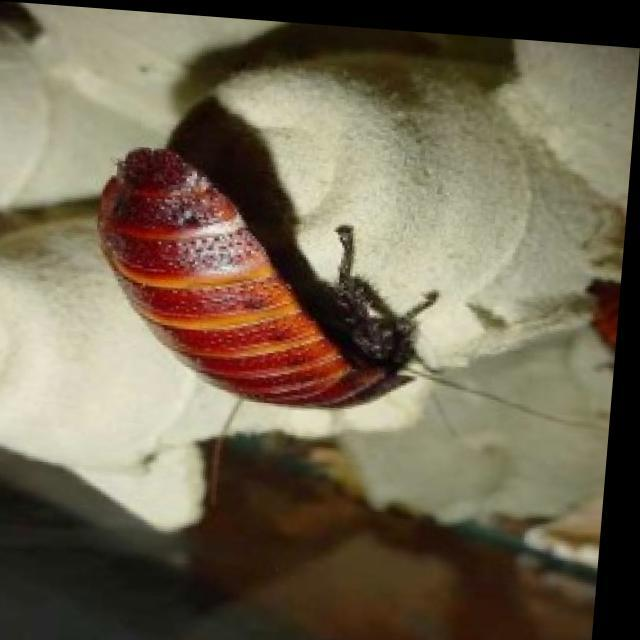cockroach: (44, 96, 452, 488)
